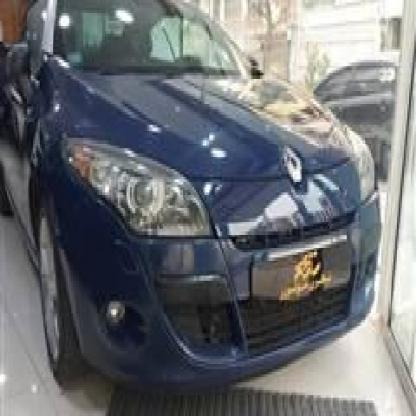Car: (0, 0, 392, 385), (314, 50, 416, 188)
